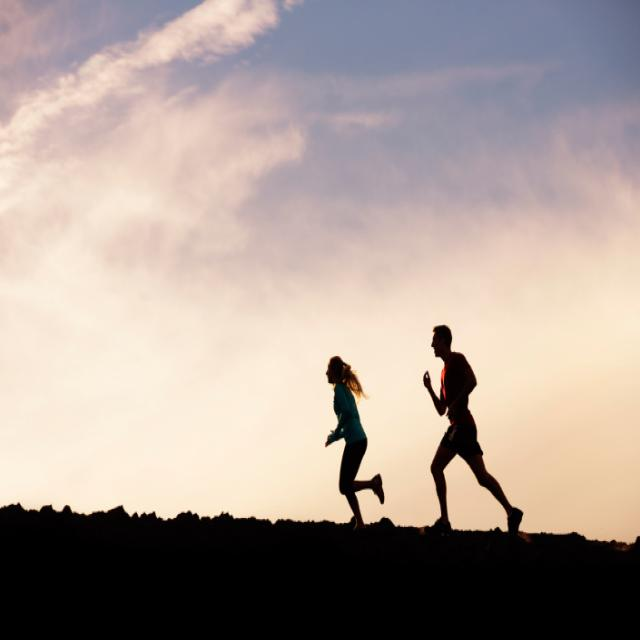Person: (423, 324, 524, 534), (323, 357, 384, 525)
